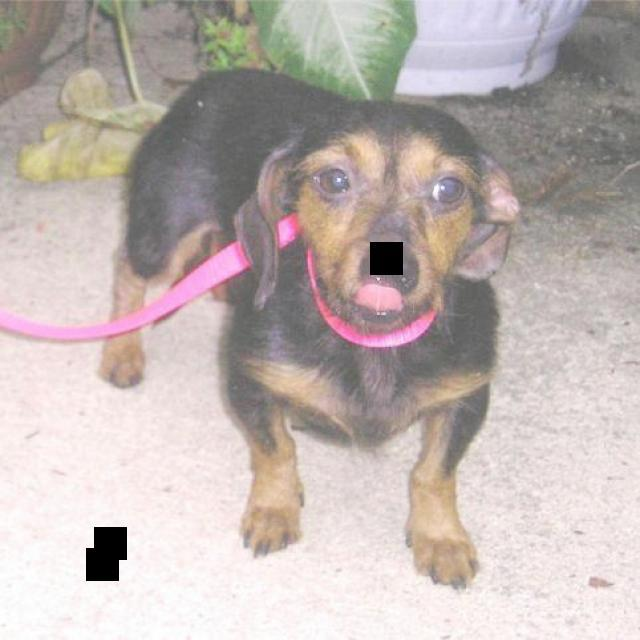puppy-dog: (92, 67, 520, 593)
